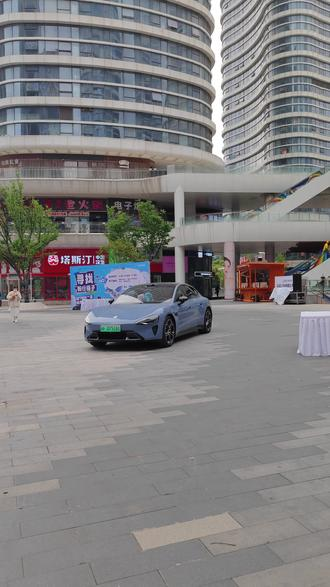su7: (87, 281, 213, 354)
